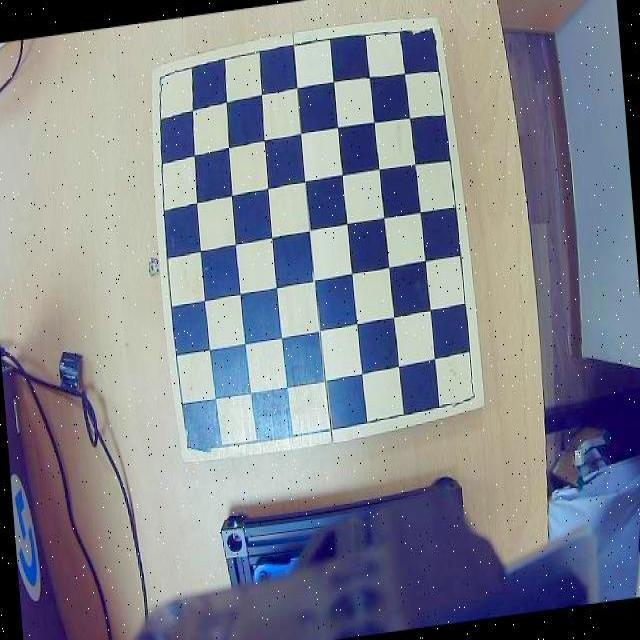chess-table-corners: (449, 378, 483, 413), (180, 427, 214, 462), (412, 17, 443, 51), (153, 62, 179, 91)
